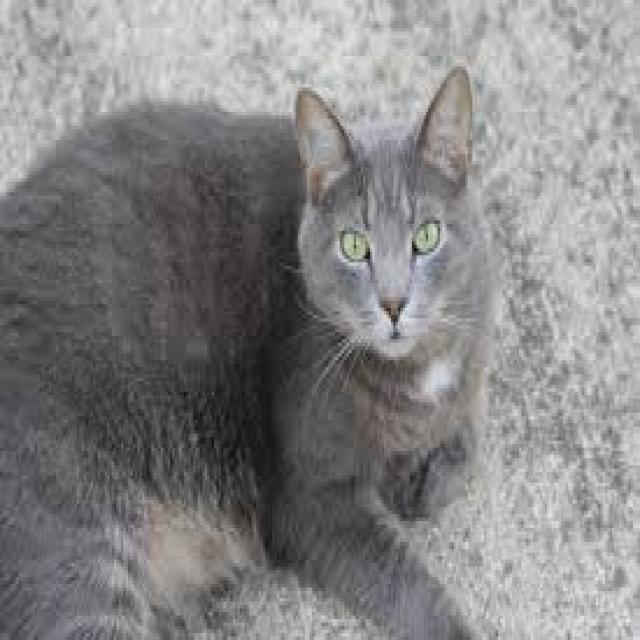Cat: (0, 53, 502, 640)
